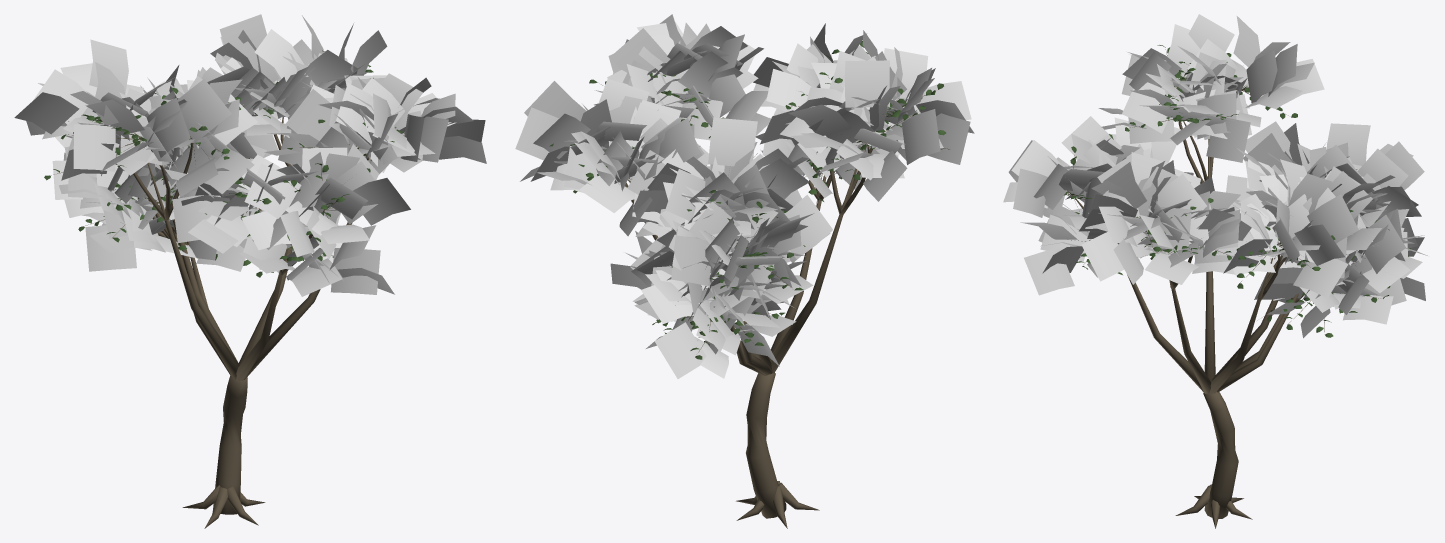
Rendered from CheneVert_Dense_LOD0.fbx.
3 renders of one model, left to right at view 1: azimuth 30°, elevation 25°; view 2: azimuth 150°, elevation 25°; view 3: azimuth 270°, elevation 25°, orthographic. The views are drawn at different scales.
Visible parts, largest first — view 1: CheneVert_Dense; view 2: CheneVert_Dense; view 3: CheneVert_Dense.
Boxes of the visible parts, <box> form: CheneVert_Dense: <box>14,14,486,528</box>; CheneVert_Dense: <box>515,14,974,528</box>; CheneVert_Dense: <box>1003,14,1427,528</box>.
Bounding box in the file's own units: 661 × 753 × 666.
